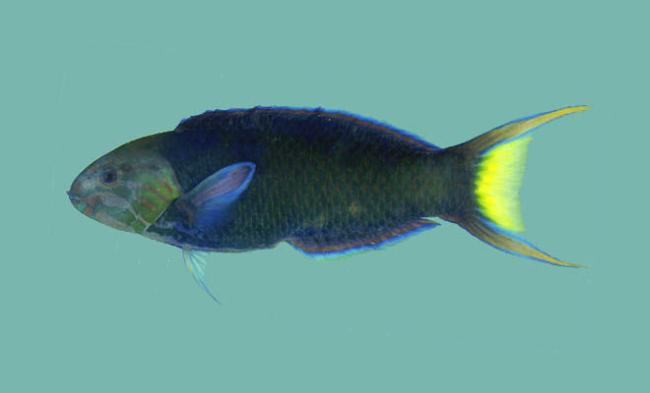fish: (66, 104, 595, 307)
